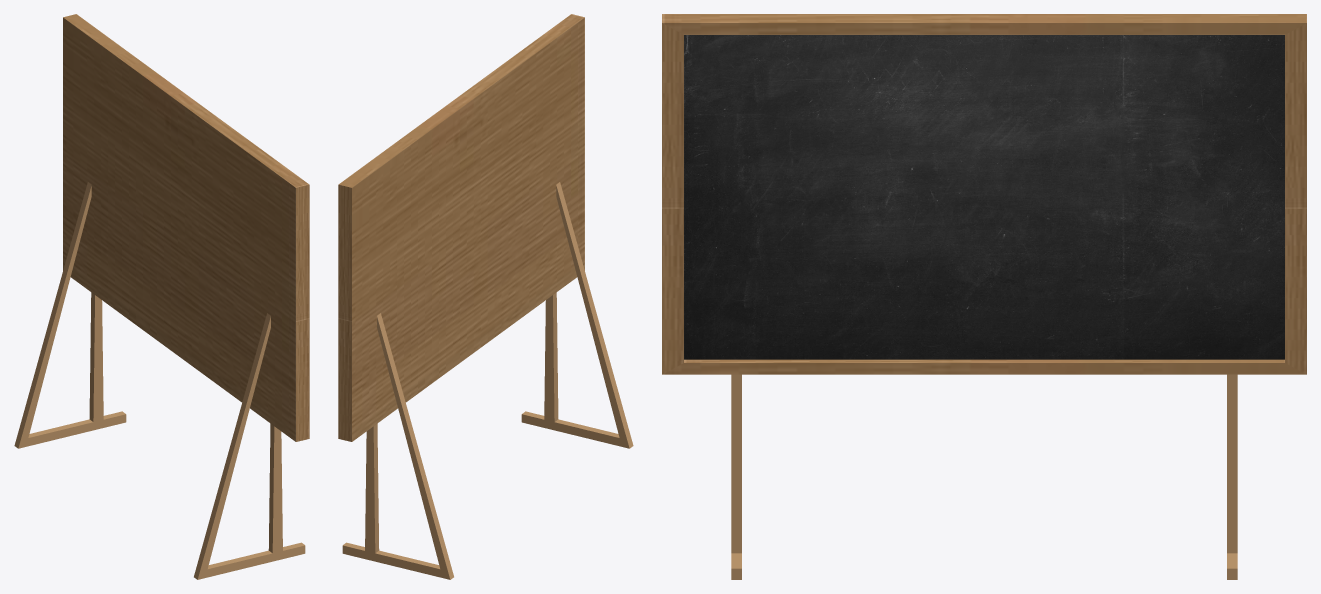
File: chalkboard.fbx
3 views of the same model, side by side, from view 1: azimuth 30°, elevation 25°; view 2: azimuth 150°, elevation 25°; view 3: azimuth 270°, elevation 25° (orthographic). The views are drawn at different scales.
Visible parts, largest first — view 1: Cube; view 2: Cube; view 3: Cube.
Part boxes in pixels (x1,y1,x2,y2): Cube: [14, 14, 309, 579]; Cube: [338, 14, 633, 579]; Cube: [662, 14, 1306, 579].
Size of the model in its own units: 71.86 by 269 by 250.
